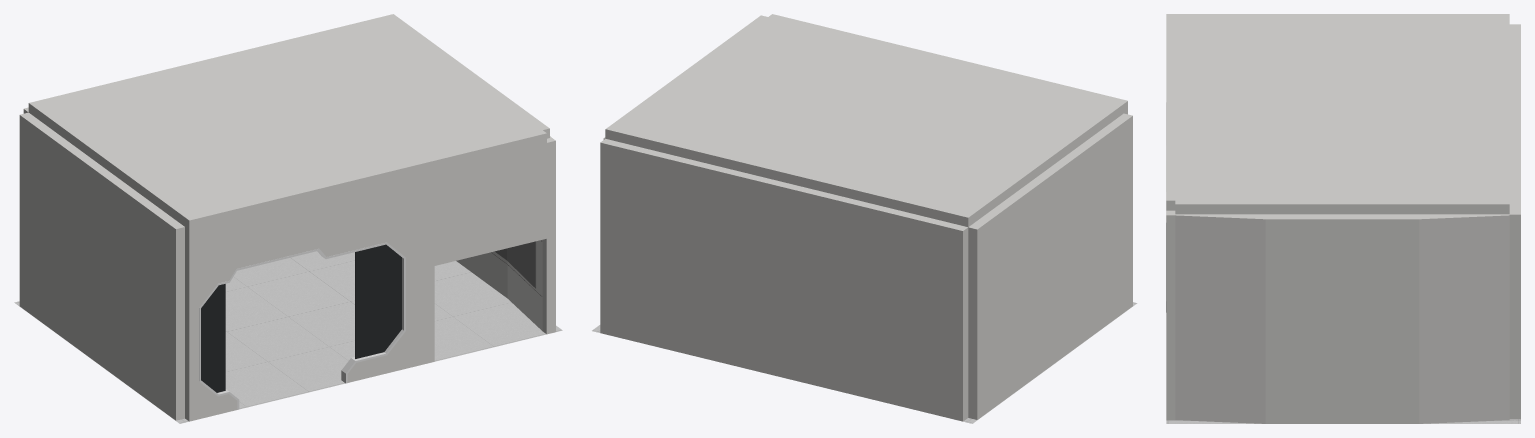
Rendered from hall_static_model_no_lights.glb.
3 views of the same model, side by side, from view 1: azimuth 30°, elevation 25°; view 2: azimuth 150°, elevation 25°; view 3: azimuth 270°, elevation 25° (orthographic). The views are drawn at different scales.
Visible parts, largest first — view 1: ground; view 2: ground; view 3: ground.
Part boxes in pixels (<box>): ground: <box>14,14,562,423</box>; ground: <box>592,14,1137,423</box>; ground: <box>1166,14,1520,423</box>.
Size of the model in its own units: 10.47 by 5.25 by 7.86.
Materials: 24 (9 with a texture image).
